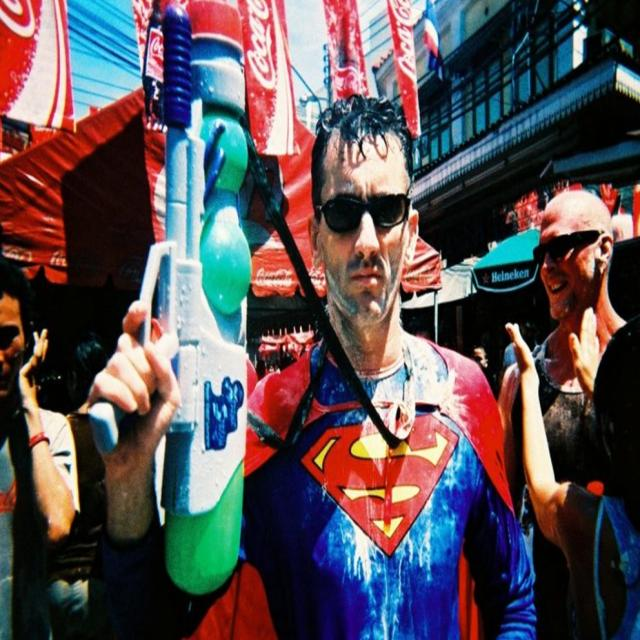Glasses: (304, 178, 414, 244), (530, 238, 578, 270)
